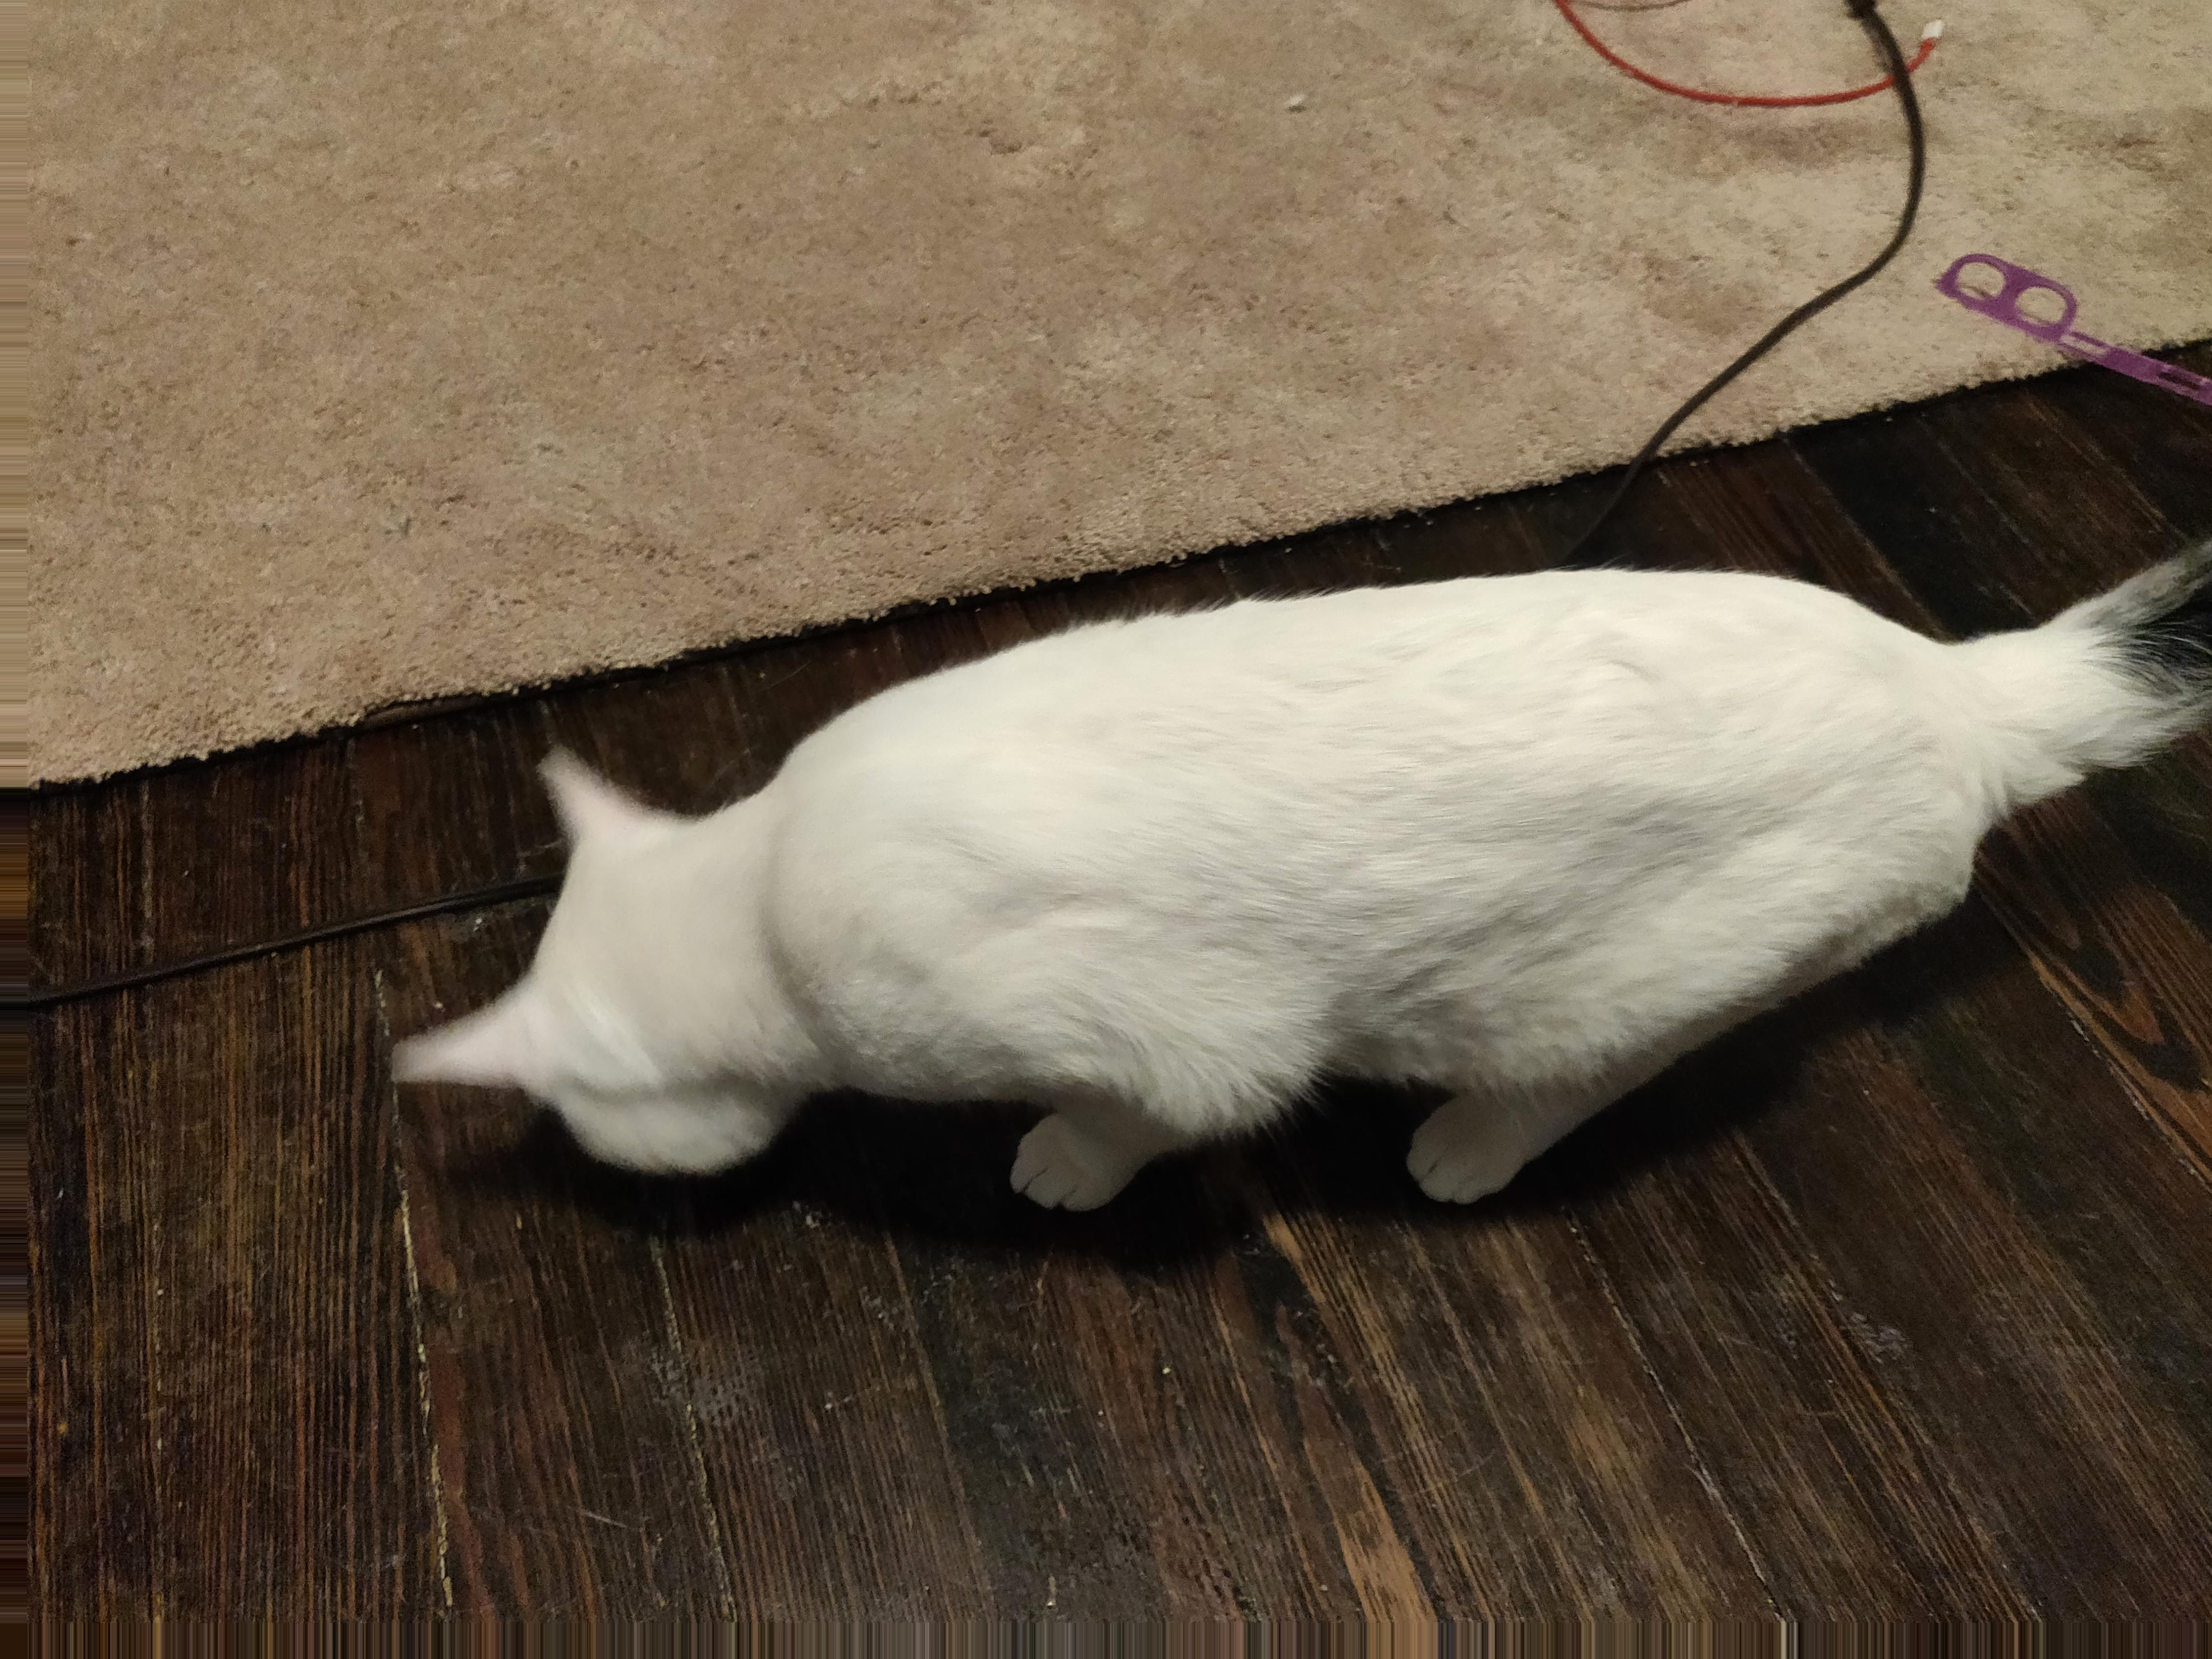cat: (414, 530, 2208, 1202)
